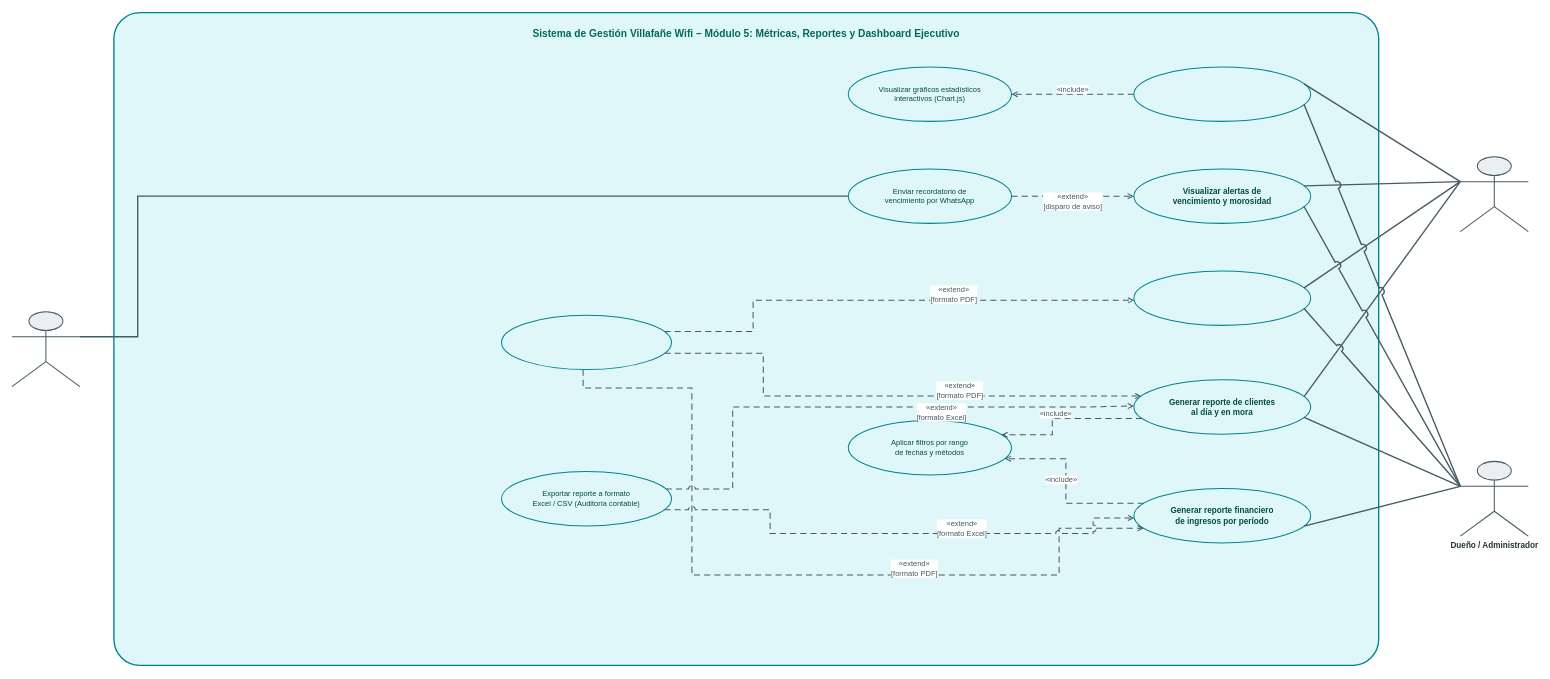
Image size: 1550x679. Some labels were removed from this diagram. The box of each missing label's shape, as (x1, y1, x2, y2) in pixels:
Consultar Dashboard General con KPIs ejecutivos: (1133, 66, 1311, 122)
Empleado: (1459, 156, 1529, 232)
Exportar reporte a PDF con membrete oficial (DomPDF): (501, 314, 672, 370)
Generar reporte de tickets y eficiencia por técnico: (1133, 270, 1311, 326)
«external» Bot de WhatsApp (Meta Cloud API): (11, 311, 80, 387)
